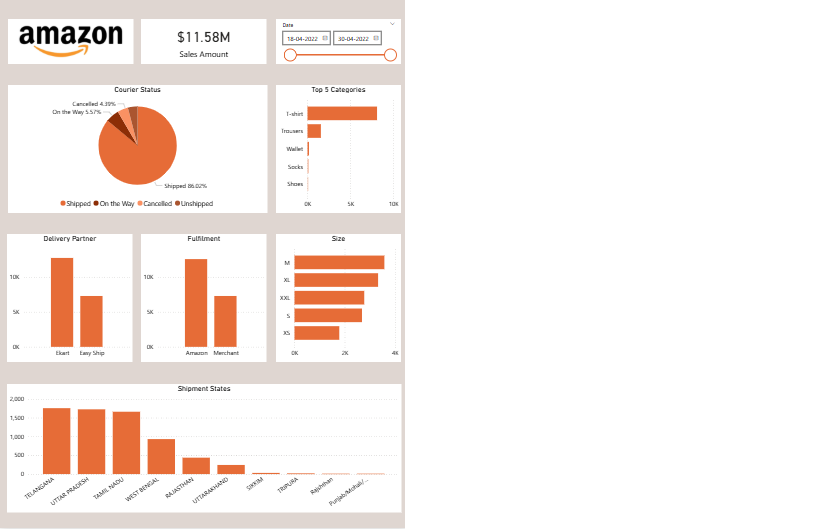

This screenshot's page, from the dashboard's own definition file:
{"tool":"powerbi","page":{"name":"Page 1","canvas":[816,1056],"ordinal":0},"visuals":[{"type":"image","box":[15.7,38.6,251.4,90],"z":0},{"type":"card","fields":{"Values":["Sum(Amazon_sales_report_cleaned.Amount)"]},"box":[282.9,38.6,251.4,90],"z":1000},{"type":"slicer","fields":{"Values":["Amazon_sales_report_cleaned.Date"]},"box":[551.4,38.6,250,90],"z":2000},{"type":"barChart","title":"Top 5 Categories","fields":{"Category":["Amazon_sales_report_cleaned.Category"],"Y":["CountNonNull(Amazon_sales_report_cleaned.Category)"]},"box":[551.4,170,250,255.7],"z":3000},{"type":"pieChart","title":"Courier Status","fields":{"Category":["Amazon_sales_report_cleaned.Courier Status"],"Y":["CountNonNull(Amazon_sales_report_cleaned.Courier Status)"]},"box":[15.7,170,518.6,255.7],"z":4000},{"type":"columnChart","title":"Delivery Partner","fields":{"Category":["Amazon_sales_report_cleaned.fulfilled-by"],"Y":["CountNonNull(Amazon_sales_report_cleaned.fulfilled-by)"]},"box":[14.3,467.1,251.4,255.7],"z":5000},{"type":"columnChart","title":"Fulfilment","fields":{"Category":["Amazon_sales_report_cleaned.Fulfilment"],"Y":["CountNonNull(Amazon_sales_report_cleaned.Fulfilment)"]},"box":[282.9,467.1,251.4,255.7],"z":6000},{"type":"barChart","title":"Size","fields":{"Category":["Amazon_sales_report_cleaned.Size"],"Y":["CountNonNull(Amazon_sales_report_cleaned.Size)"]},"box":[551.4,467.1,250,255.7],"z":7000},{"type":"clusteredColumnChart","title":"Shipment States","fields":{"Category":["Amazon_sales_report_cleaned.ship-state"],"Y":["CountNonNull(Amazon_sales_report_cleaned.ship-state)"]},"box":[14.3,767.1,788.6,257.1],"z":7001}]}

Visuals, with their boxes on the page's 816x1056 design canvas (x1, y1, x2, y2). These are canvas units, not pixel positions in the 819x529 screenshot, which may show the page scaled, cropped or inside an application window:
image: select_region(16, 39, 267, 129)
card - Sum(Amazon_sales_report_cleaned.Amount): select_region(283, 39, 534, 129)
slicer - Amazon_sales_report_cleaned.Date: select_region(551, 39, 801, 129)
"Top 5 Categories" barChart: select_region(551, 170, 801, 426)
"Courier Status" pieChart: select_region(16, 170, 534, 426)
"Delivery Partner" columnChart: select_region(14, 467, 266, 723)
"Fulfilment" columnChart: select_region(283, 467, 534, 723)
"Size" barChart: select_region(551, 467, 801, 723)
"Shipment States" clusteredColumnChart: select_region(14, 767, 803, 1024)
